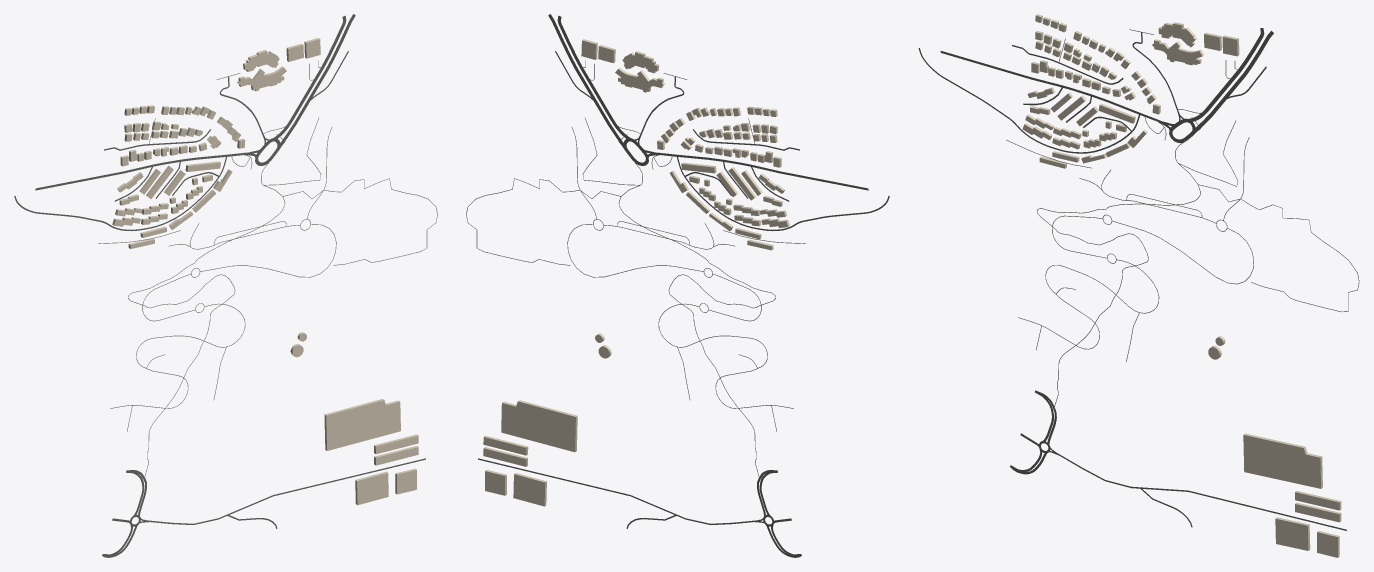
Rendered from historic-palestine-11_33_3533_3270.glb.
3 renders of one model, left to right at view 1: azimuth 30°, elevation 25°; view 2: azimuth 150°, elevation 25°; view 3: azimuth 330°, elevation 25°, orthographic. The views are drawn at different scales.
Visible parts, largest first — view 1: Building_.065, Building_.068, Building_.002, Road אריאב מנחם, Road מעלה יצחק; view 2: Building_.065, Building_.068, Building_.002, Road אריאב מנחם, Road מעלה יצחק, Road מעלה יצחק.001; view 3: Building_.065, Building_.068, Building_.002, Road אריאב מנחם, Road מעלה יצחק, Building_.
Boxes of the visible parts, bbox=[...] form: Building_.065: bbox=[324, 399, 400, 450]; Building_.068: bbox=[355, 471, 388, 505]; Building_.002: bbox=[237, 66, 286, 91]; Road אריאב מנחם: bbox=[35, 152, 245, 190]; Road מעלה יצחק: bbox=[276, 14, 355, 151]; Building_.065: bbox=[501, 400, 577, 452]; Building_.068: bbox=[513, 473, 546, 506]; Building_.002: bbox=[615, 68, 665, 92]; Road אריאב מנחם: bbox=[658, 152, 868, 190]; Road מעלה יצחק: bbox=[548, 14, 627, 151]; Road מעלה יצחק.001: bbox=[557, 15, 630, 140]; Building_.065: bbox=[1243, 433, 1322, 488]; Building_.068: bbox=[1275, 517, 1310, 550]; Building_.002: bbox=[1152, 39, 1203, 65]; Road אריאב מנחם: bbox=[940, 51, 1159, 121]; Road מעלה יצחק: bbox=[1191, 30, 1273, 134]; Building_: bbox=[1158, 22, 1196, 47].
Size of the model in its own units: 1033 by 1157 by 8.7.
